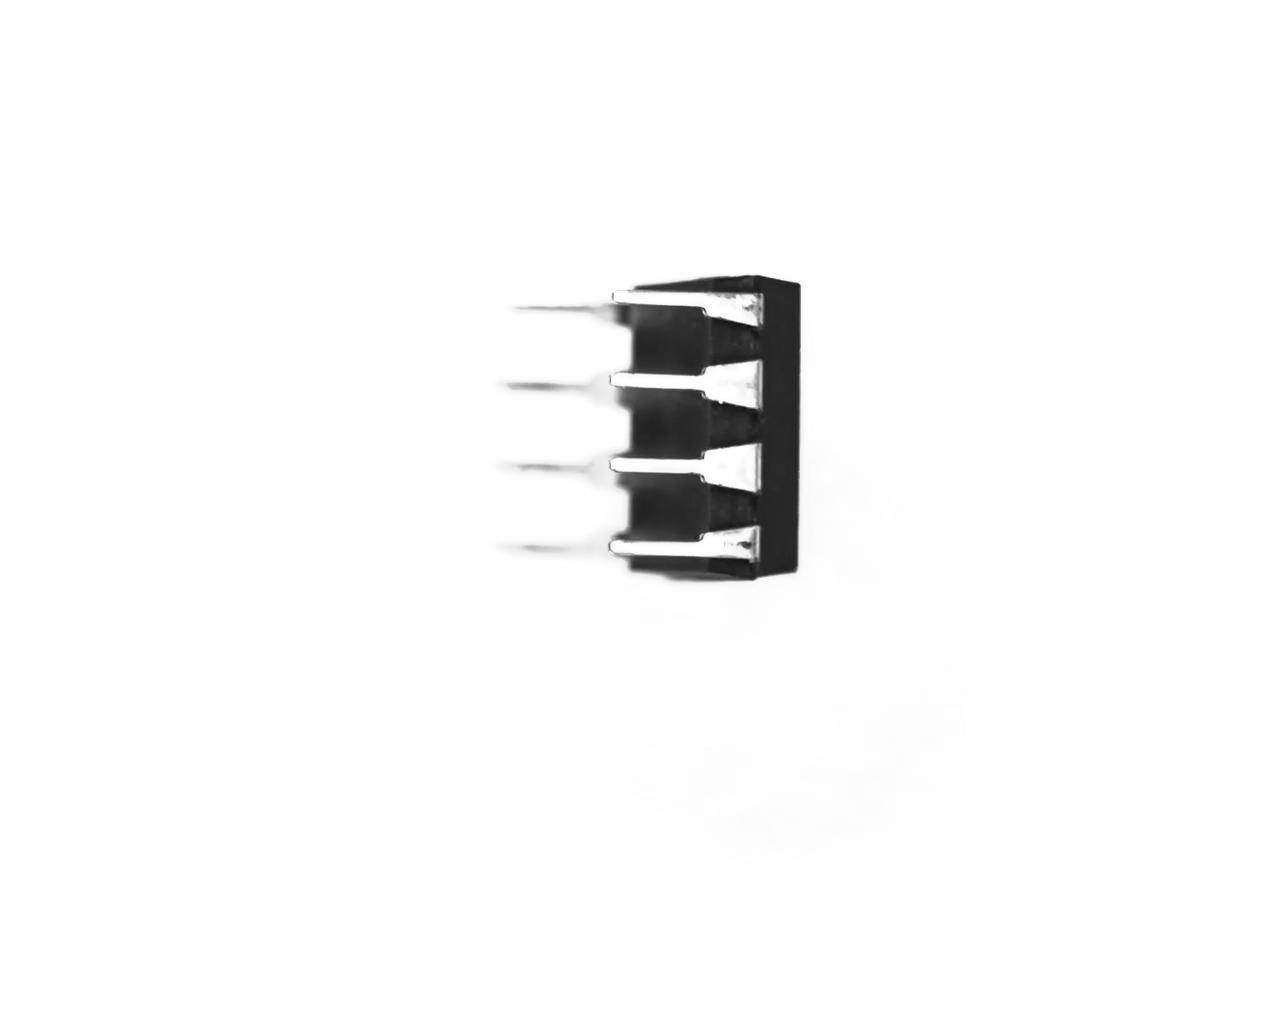Leg: (606, 351, 772, 421), (606, 433, 772, 502), (607, 514, 769, 575), (614, 274, 770, 335), (501, 521, 646, 568), (490, 367, 633, 414), (506, 285, 634, 338), (499, 444, 638, 490)
